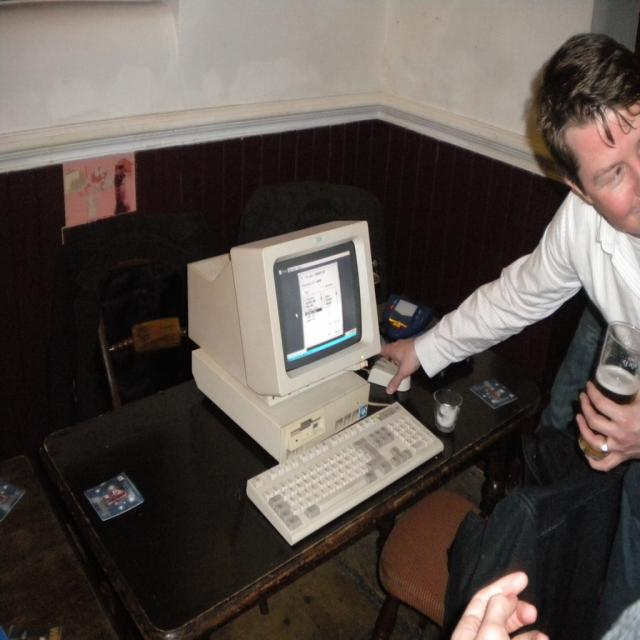chair: (234, 183, 387, 309)
desk: (42, 405, 537, 637)
keyboard: (246, 399, 445, 548)
mouse: (368, 356, 411, 397)
person: (382, 24, 640, 634)
tv: (200, 218, 382, 406)
